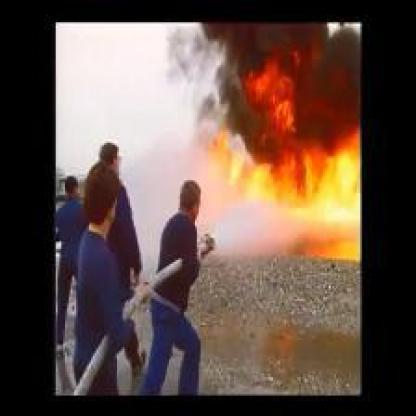fire: (204, 55, 360, 246)
smoke: (176, 23, 360, 105)
